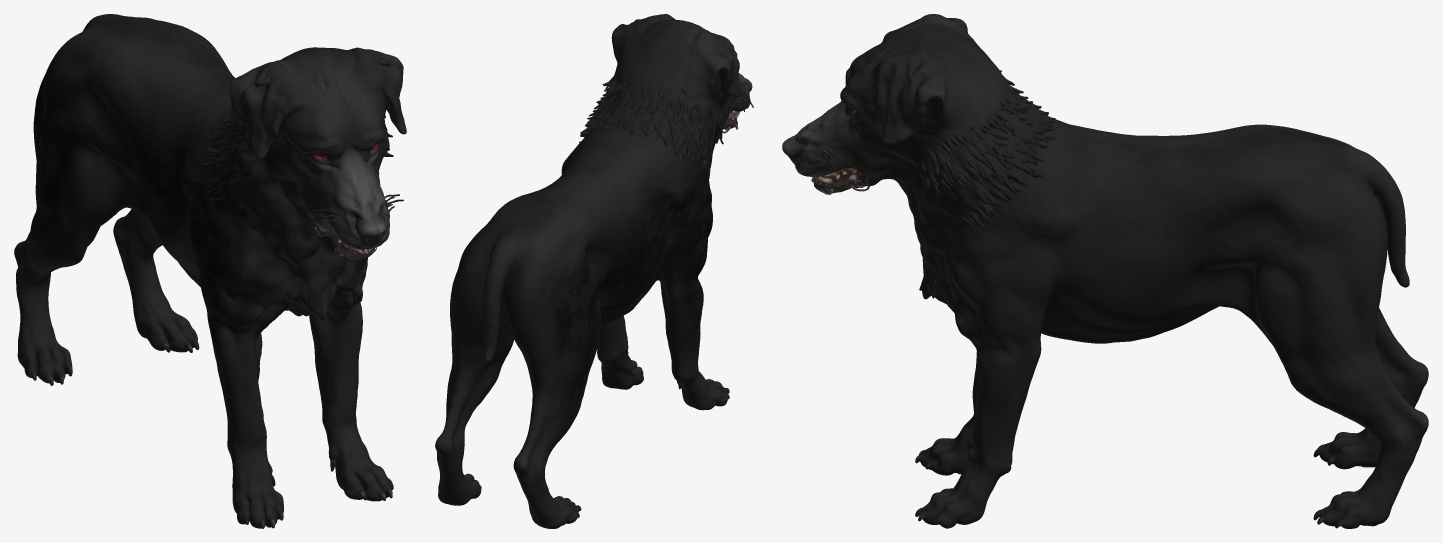
The model's file is 56-el-perro-negro-de-la-ermita-de-sonsa-optimized.glb.
3 renders of one model, left to right at view 1: azimuth 30°, elevation 25°; view 2: azimuth 150°, elevation 25°; view 3: azimuth 270°, elevation 25°, orthographic. The views are drawn at different scales.
Parts seen in each view (by area): view 1: tripo_node_042afc06-2a65-4184-a054-e01d6d0ea478; view 2: tripo_node_042afc06-2a65-4184-a054-e01d6d0ea478; view 3: tripo_node_042afc06-2a65-4184-a054-e01d6d0ea478.
Boxes of the visible parts, left/top/right/bottom form: tripo_node_042afc06-2a65-4184-a054-e01d6d0ea478: left=14, top=14, right=406, bottom=528; tripo_node_042afc06-2a65-4184-a054-e01d6d0ea478: left=435, top=14, right=753, bottom=528; tripo_node_042afc06-2a65-4184-a054-e01d6d0ea478: left=782, top=14, right=1428, bottom=528.
Bounding box in the file's own units: 0.3045 × 0.7887 × 1.
1 material, 1 textured.
